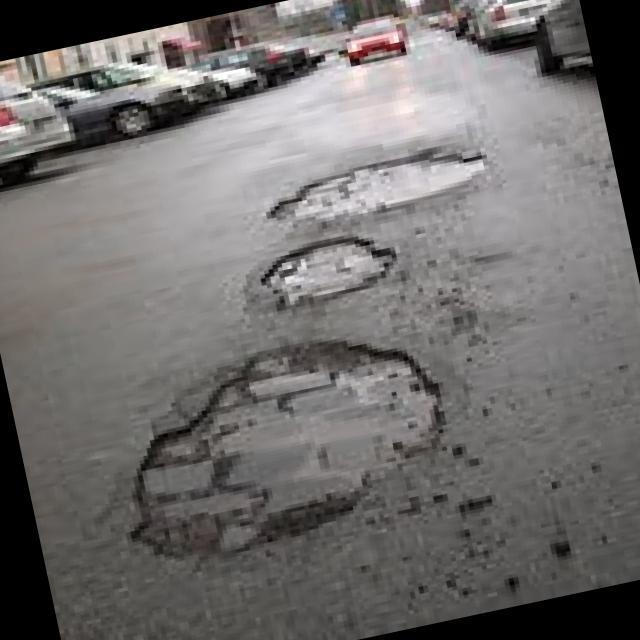Pothole: (128, 306, 471, 574), (279, 137, 474, 230), (268, 226, 384, 304)
